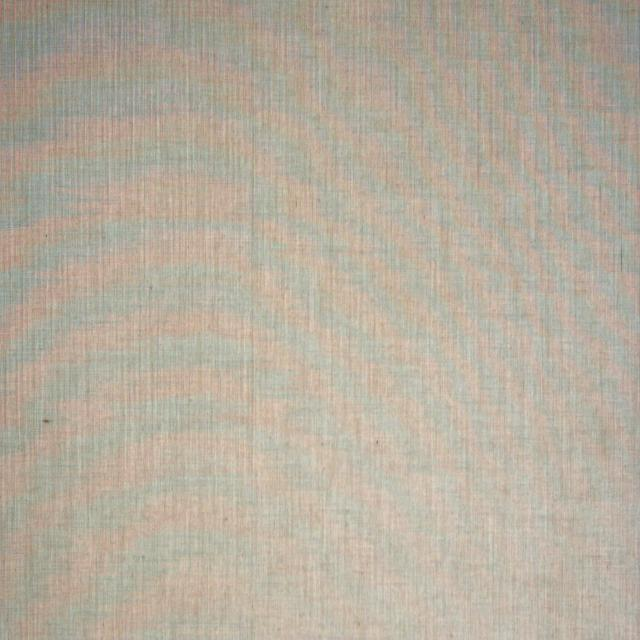dirty: (44, 420, 50, 423)
